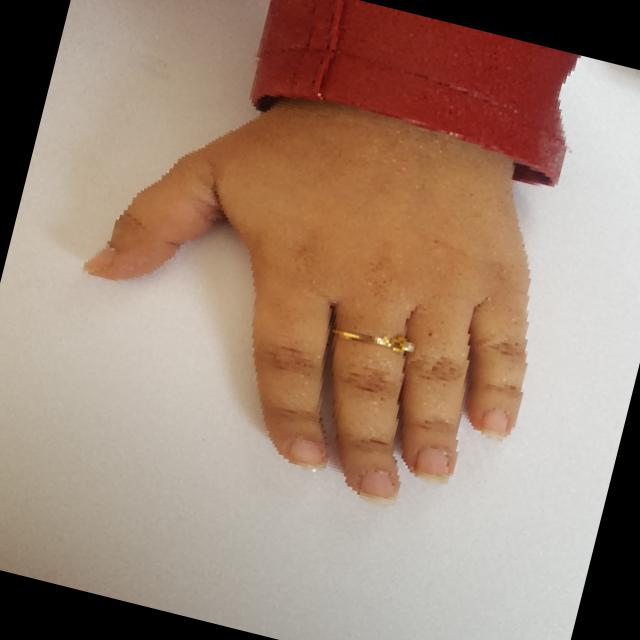Nail: (358, 471, 395, 505), (415, 447, 448, 483), (290, 438, 321, 473), (81, 244, 115, 274), (481, 408, 508, 440)
